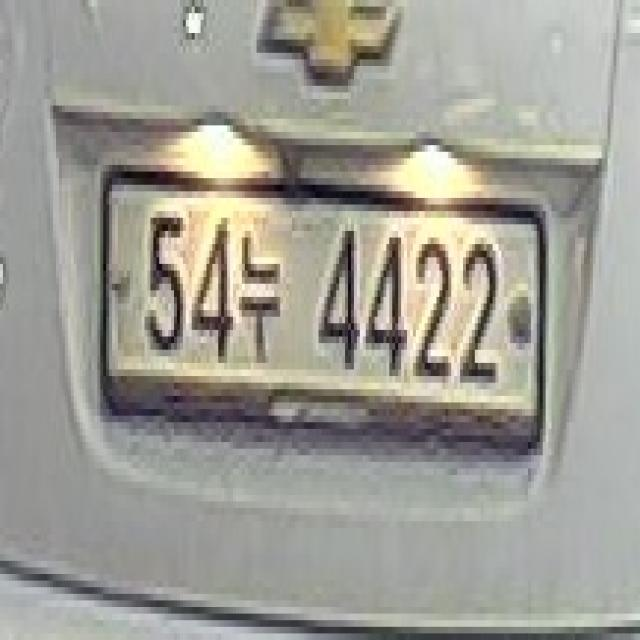2: (407, 198, 457, 409), (460, 218, 507, 409)
4: (306, 178, 368, 403), (186, 185, 239, 389), (363, 211, 419, 376)
5: (142, 204, 188, 363)
license_plate: (91, 152, 552, 475)
nu: (230, 218, 292, 350)
